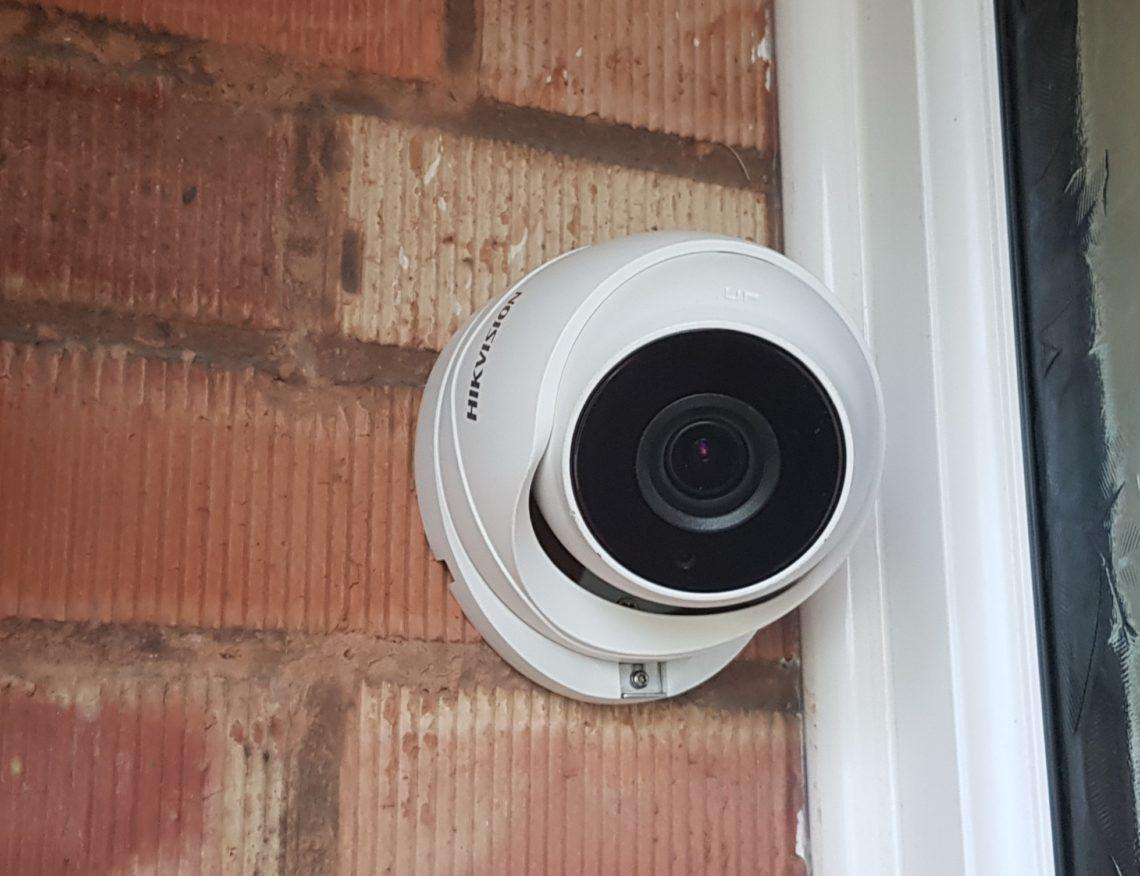Security camera: (410, 227, 887, 706)
